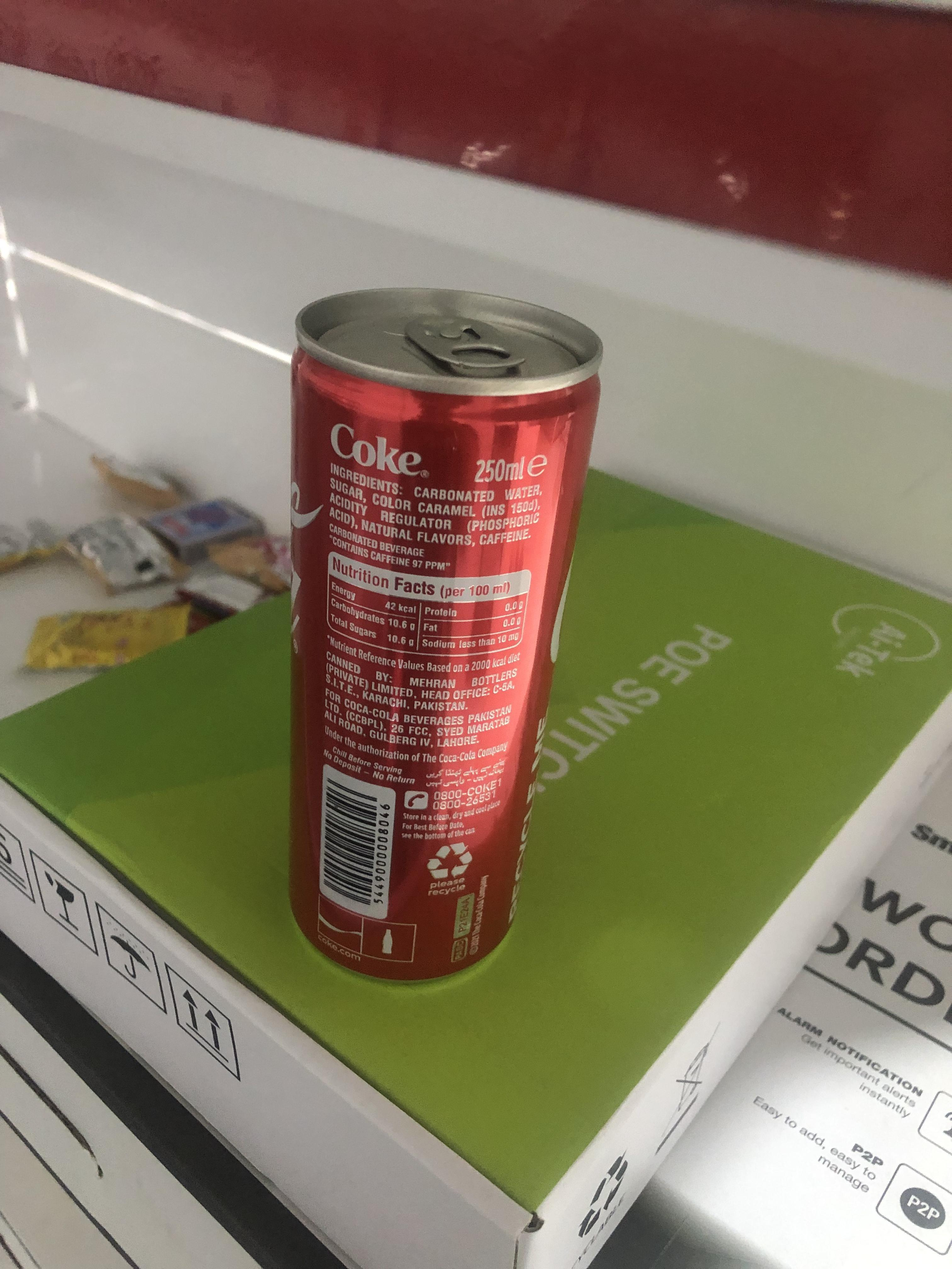tin can: (280, 279, 609, 990)
